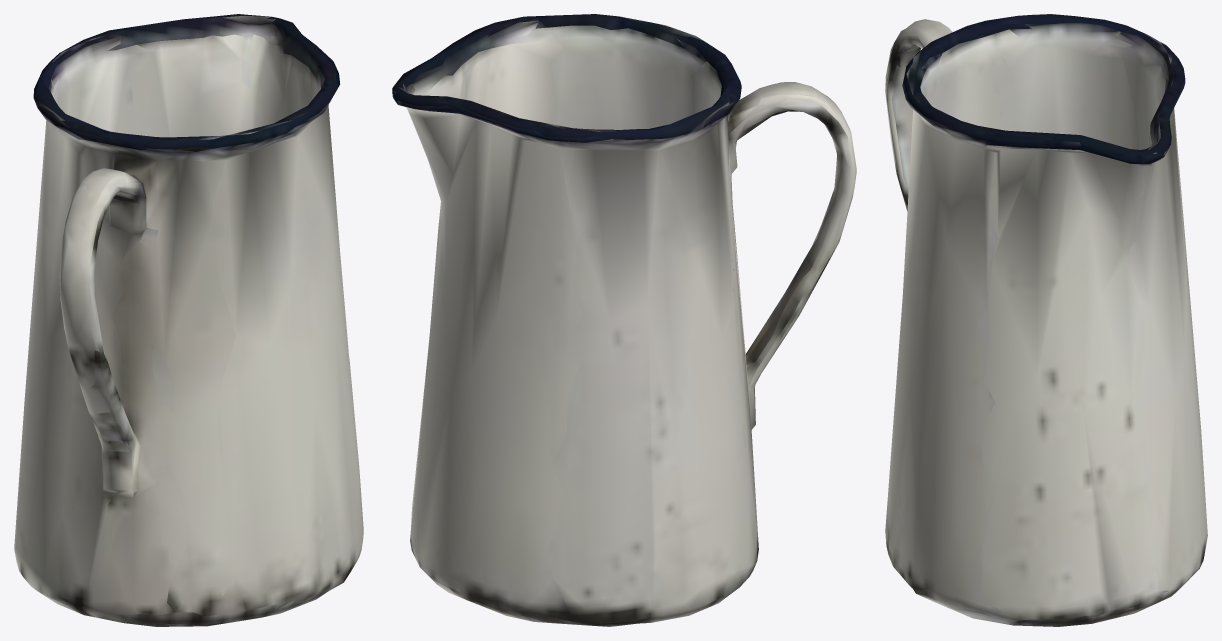
The model's file is jarro.movil.glb.
The picture shows the model from 3 angles, left to right: view 1: azimuth 30°, elevation 25°; view 2: azimuth 150°, elevation 25°; view 3: azimuth 270°, elevation 25°; orthographic projection.
Parts seen in each view (by area): view 1: geometry_0; view 2: geometry_0; view 3: geometry_0.
Part boxes in pixels (x1,y1,x2,y2): geometry_0: [14, 14, 363, 626]; geometry_0: [392, 14, 856, 626]; geometry_0: [885, 14, 1207, 626].
Bounding box in the file's own units: 0.15 × 0.1998 × 0.1199.
1 material, 1 textured.
